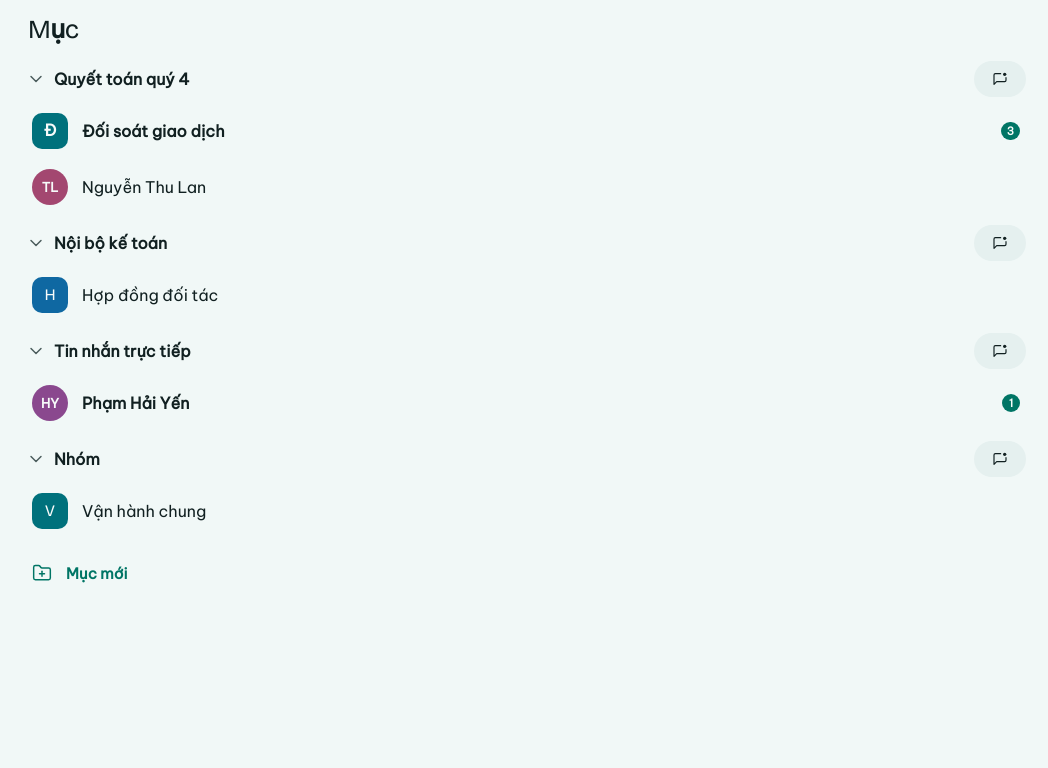
Tin nhắn on a phone › folds a section from its 44px header, which then totals the unread
This screenshot has width=1048, height=768.
Expected: the list named "Quyết toán quý 4" is shown, left=12, top=103, right=1036, bottom=215
Step 1. Click the button "Quyết toán quý 4" → (122, 79), box left=18, top=57, right=970, bottom=101
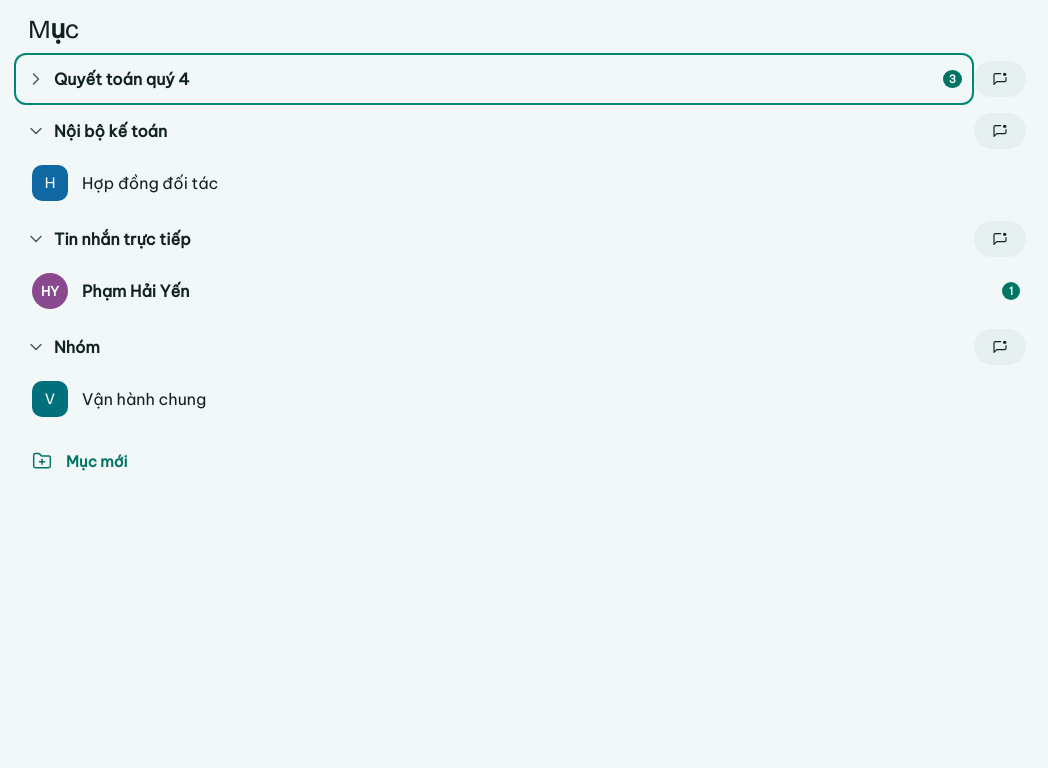
Expected: the text named "3 tin chưa đọc" is shown, left=943, top=70, right=962, bottom=88
Result: the button "Quyết toán quý 4 3" is collapsed at left=18, top=57, right=970, bottom=101
